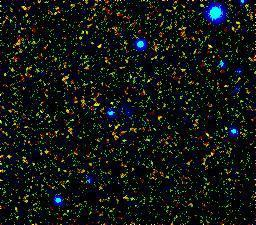star: (211, 111, 241, 141)
